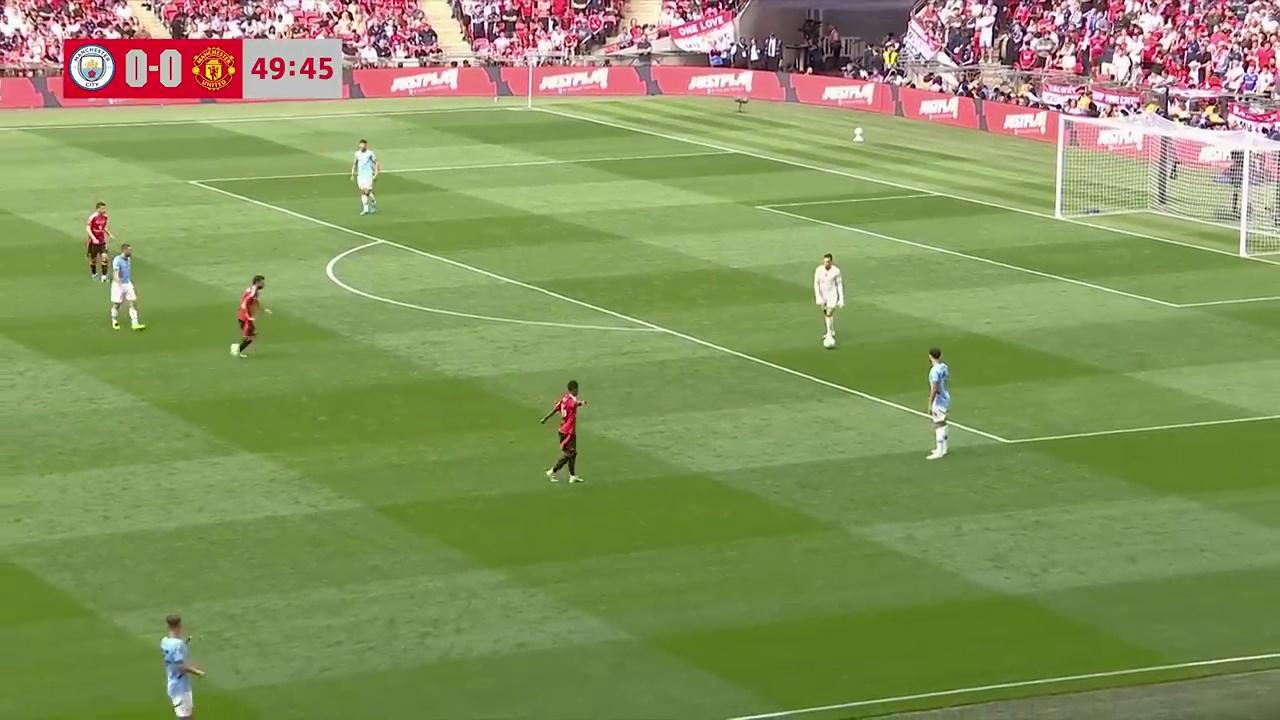ball: (822, 336, 838, 352)
player: (159, 613, 205, 719), (540, 380, 586, 484), (109, 243, 144, 331), (232, 275, 269, 358), (925, 347, 950, 458), (814, 255, 840, 349), (85, 201, 113, 282), (351, 142, 379, 215)
